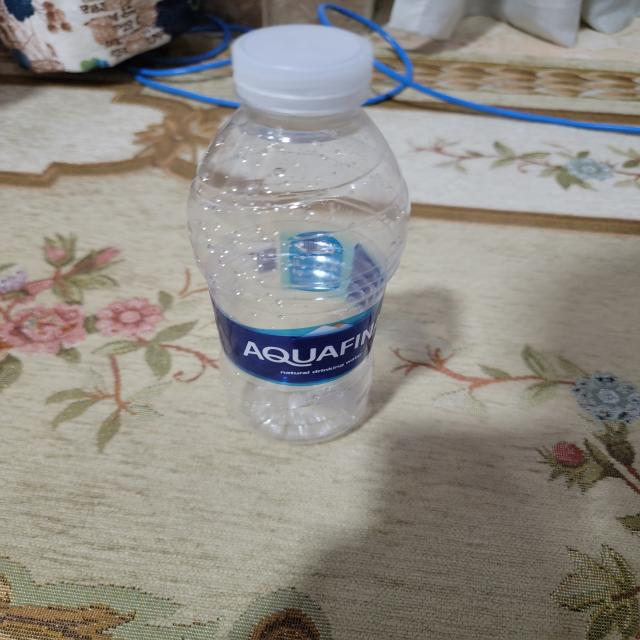Anorganik: (187, 14, 420, 452)
